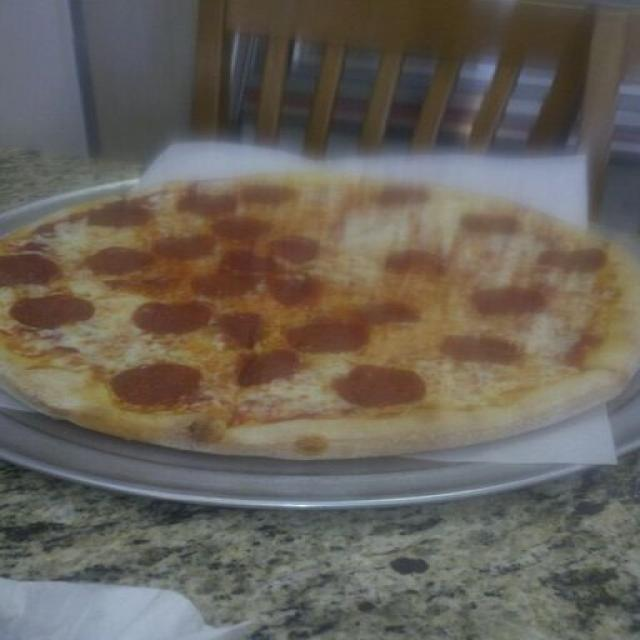Pepperoni: (100, 359, 205, 420), (344, 363, 419, 408), (127, 299, 209, 339), (284, 317, 366, 354), (13, 292, 90, 325), (203, 257, 268, 296), (1, 246, 63, 285), (234, 349, 298, 386), (450, 339, 518, 372), (155, 226, 217, 261), (391, 247, 440, 285), (268, 271, 324, 302), (476, 286, 538, 314), (463, 210, 524, 238), (84, 250, 142, 279), (218, 308, 260, 348), (212, 212, 276, 234), (538, 251, 604, 272), (94, 206, 144, 229), (379, 188, 436, 208), (242, 183, 288, 206), (271, 234, 319, 256), (358, 303, 410, 323), (181, 197, 232, 211)
Pizza: (3, 172, 637, 458)
